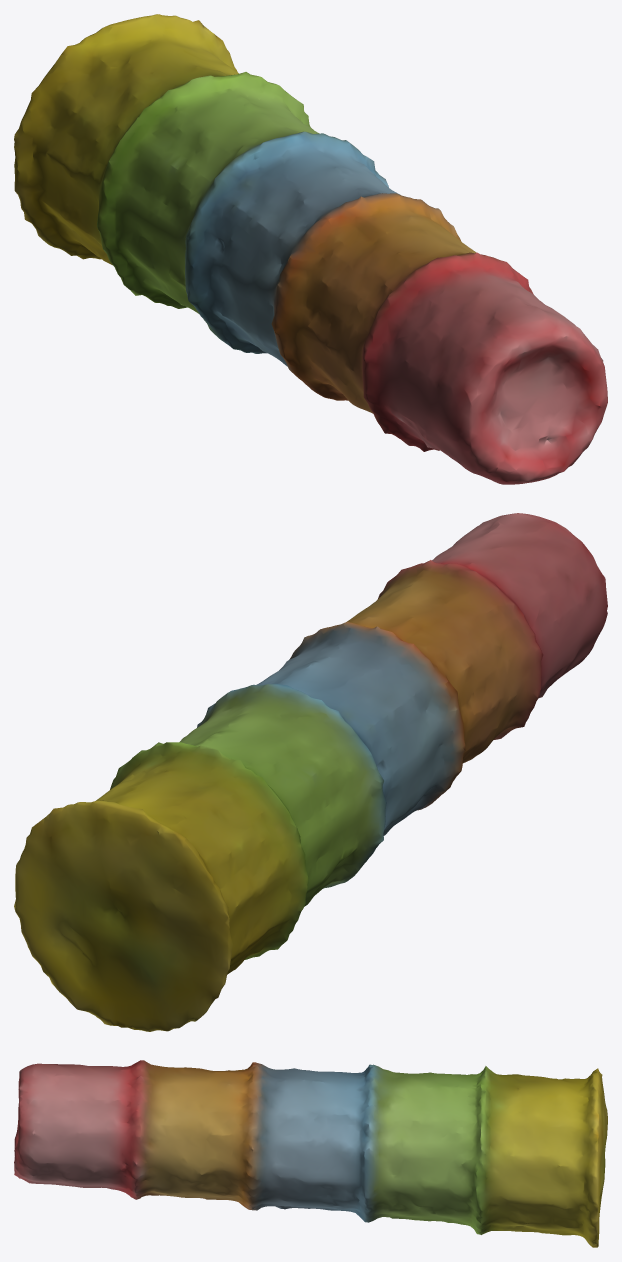
Rendered from stucking_cups.glb.
The picture shows the model from 3 angles, top to bottom: view 1: azimuth 30°, elevation 25°; view 2: azimuth 150°, elevation 25°; view 3: azimuth 270°, elevation 25°; orthographic projection. The views are drawn at different scales.
Bounding box in the file's own units: 0.2985 × 0.3075 × 0.9965.
